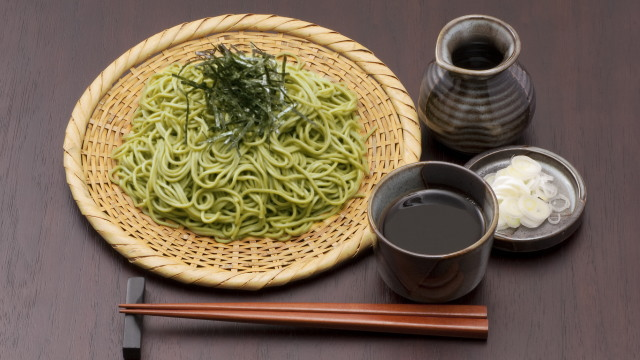Soba: (117, 56, 372, 244)
